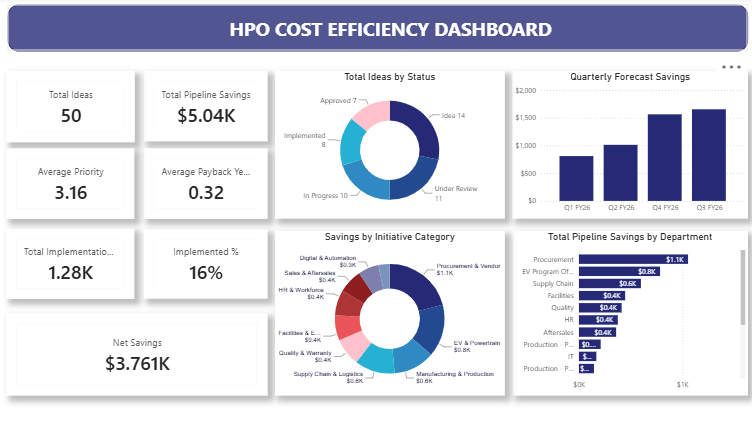

The page's visual inventory and layout, read from the dashboard file:
{"tool":"powerbi","page":{"name":"Executive summary","canvas":[1280,720],"ordinal":0},"visuals":[{"type":"cardVisual","fields":{"Data":["Table 1.Total Pipeline Savings"]},"box":[243.8,125,210,120],"z":0},{"type":"cardVisual","fields":{"Data":["Table 1.Total Ideas"]},"box":[11.7,125,218.3,121.7],"z":1000},{"type":"cardVisual","fields":{"Data":["Table 1.Total Implementation cost"]},"box":[11.2,393.8,217.5,120],"z":2000},{"type":"cardVisual","fields":{"Data":["Table 1.Net Savings"]},"box":[11.2,536.2,443.8,140],"z":3000},{"type":"cardVisual","fields":{"Data":["Table 1.Average Payback"]},"box":[243.8,257.5,210,120],"z":4000},{"type":"cardVisual","fields":{"Data":["Table 1.Average Priority","Table 1.Average Priority"]},"box":[11.2,257.5,217.5,120],"z":5000},{"type":"cardVisual","fields":{"Data":["Table 1.Implemented %"]},"box":[243.8,395,210,117.5],"z":6000},{"type":"clusteredBarChart","fields":{"Y":["Table 1.Total Pipeline Savings"],"Category":["Dim_Department.Department"]},"box":[870,396.7,400,280],"z":7000},{"type":"donutChart","title":"Savings by Initiative Category","fields":{"Y":["Table 1.Total Pipeline Savings"],"Category":["Dim_Category.Category"]},"box":[466.7,396.7,390,280],"z":8000},{"type":"donutChart","fields":{"Y":["Table 1.Total Ideas"],"Category":["Dim_Status.Status"]},"box":[466.2,125,390,251.2],"z":9000},{"type":"clusteredColumnChart","title":" Quarterly Forecast Savings","fields":{"Category":["Ideas.Forecast Quarter"],"Y":["Table 1.Total Pipeline Savings"]},"box":[870,126.2,400,251.2],"z":10000},{"type":"shape","box":[12,12,1258,80],"z":11000},{"type":"textbox","box":[294,28,736,80],"z":12000}]}

Visuals, with their boxes in screenshot pixels (x1, y1, x2, y2), scaled from the page's 1280x720 canvas onto the 752x421 screenshot:
cardVisual - Table 1.Total Pipeline Savings: crop(143, 73, 267, 143)
cardVisual - Table 1.Total Ideas: crop(7, 73, 135, 144)
cardVisual - Table 1.Total Implementation cost: crop(7, 230, 134, 300)
cardVisual - Table 1.Net Savings: crop(7, 314, 267, 395)
cardVisual - Table 1.Average Payback: crop(143, 151, 267, 221)
cardVisual - Table 1.Average Priority x Table 1.Average Priority: crop(7, 151, 134, 221)
cardVisual - Table 1.Implemented %: crop(143, 231, 267, 300)
clusteredBarChart - Table 1.Total Pipeline Savings x Dim_Department.Department: crop(511, 232, 746, 396)
"Savings by Initiative Category" donutChart: crop(274, 232, 503, 396)
donutChart - Table 1.Total Ideas x Dim_Status.Status: crop(274, 73, 503, 220)
" Quarterly Forecast Savings" clusteredColumnChart: crop(511, 74, 746, 221)
shape: crop(7, 7, 746, 54)
textbox: crop(173, 16, 605, 63)
